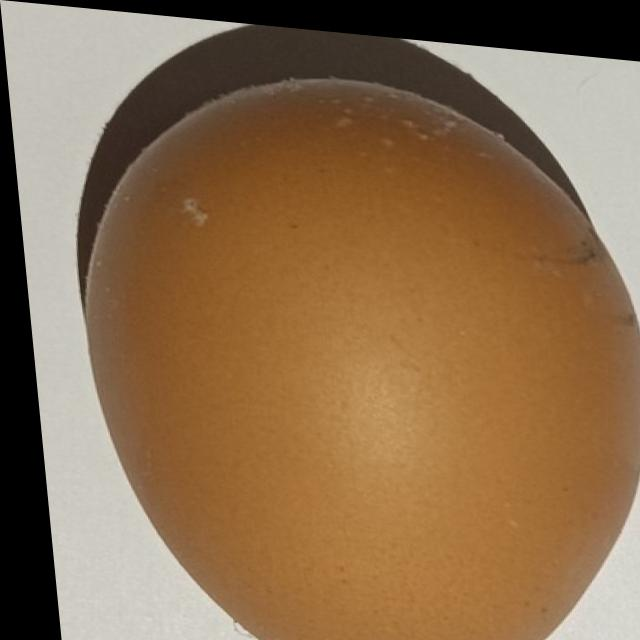fresh: (51, 41, 640, 640)
